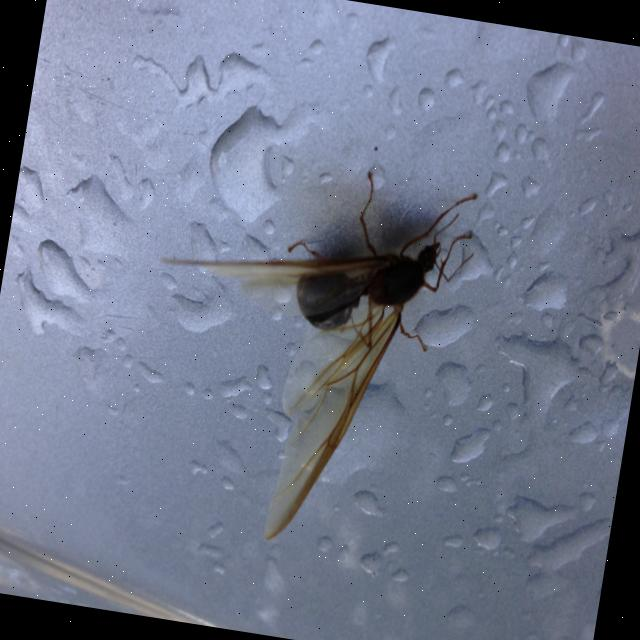Alive-Male-Alate: (118, 139, 486, 566)
